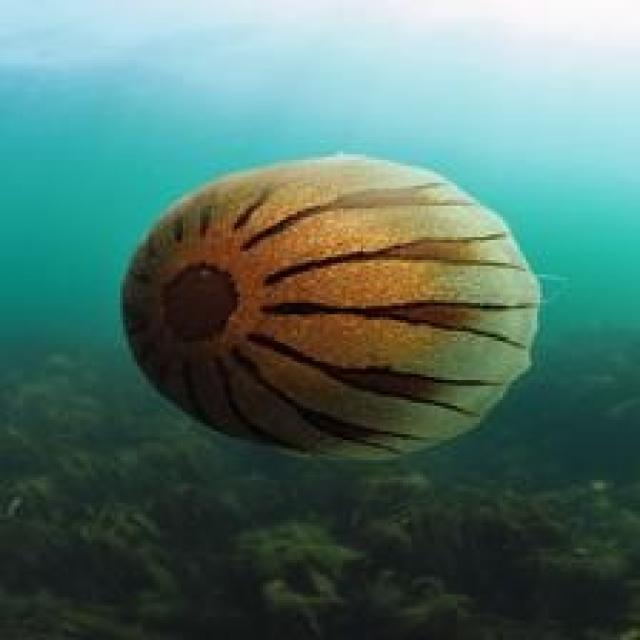Box-jellyfish: (117, 149, 546, 460)
